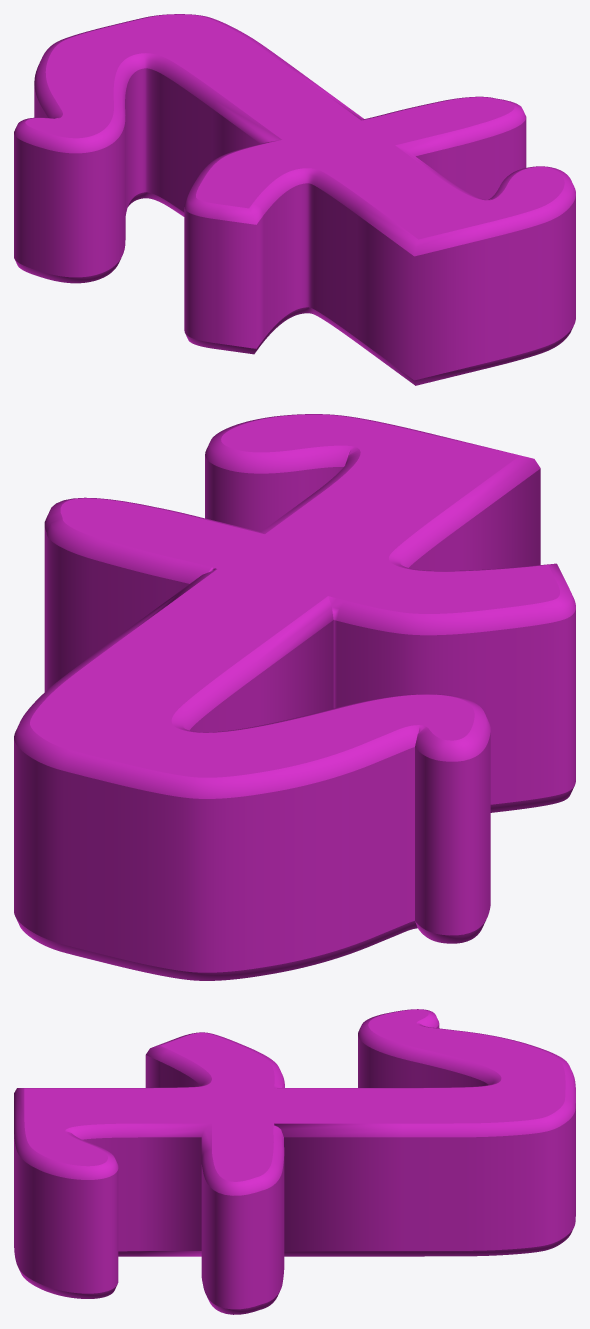
Rendered from Letter_t_Small.fbx.
The picture shows the model from 3 angles, top to bottom: view 1: azimuth 30°, elevation 25°; view 2: azimuth 150°, elevation 25°; view 3: azimuth 270°, elevation 25°; orthographic projection. The views are drawn at different scales.
Parts seen in each view (by area): view 1: Letter_t; view 2: Letter_t; view 3: Letter_t.
Part boxes in pixels (box(x1,y1,x2,y2)): Letter_t: box(14, 14, 575, 385); Letter_t: box(14, 414, 575, 980); Letter_t: box(14, 1009, 575, 1314).
Bounding box in the file's own units: 0.4107 × 0.14 × 0.5379.
